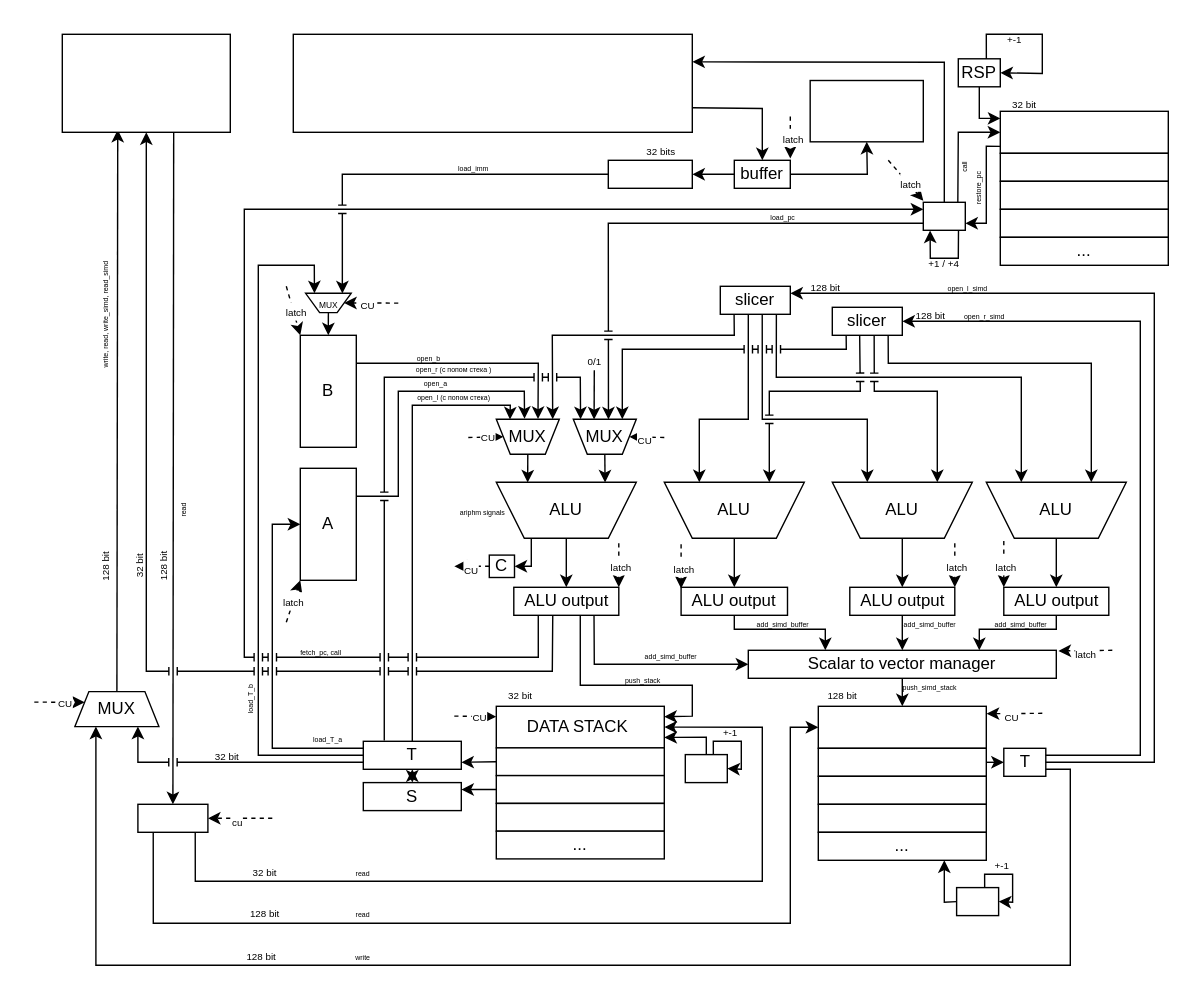
Some shapes in this 1193 by 1001 pixel diagram are drawn without their labels. Here are the shapes that lost their labels. From the top down, the centre of each, then its label:
the point at 145,82: MM I/O
the point at 492,82: Instruction mem
the point at 866,110: Control unit
the point at 1083,131: RETURN STACK
the point at 649,173: imm
the point at 943,215: PC
the point at 901,726: SIMD Stack
the point at 705,768: DSP
the point at 172,817: is simd
the point at 977,901: SSP
